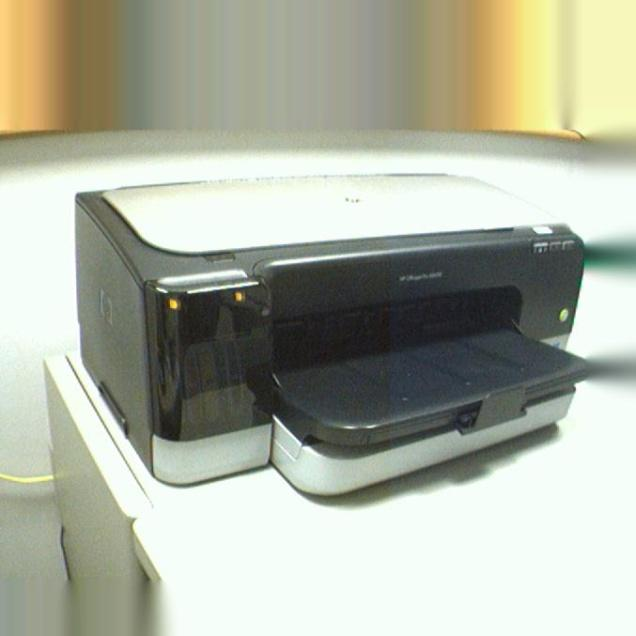Printer: (72, 171, 595, 499)
